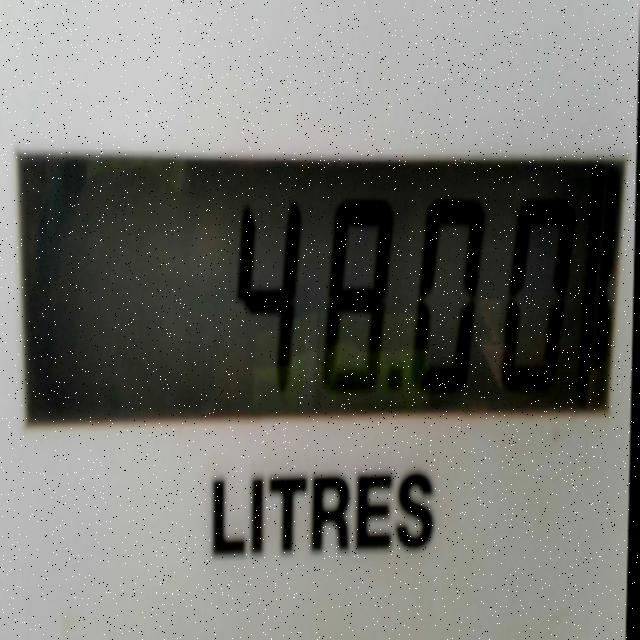.: (381, 345, 420, 439)
0: (404, 204, 488, 388), (497, 209, 566, 401)
4: (232, 200, 322, 414)
8: (325, 202, 390, 386)
